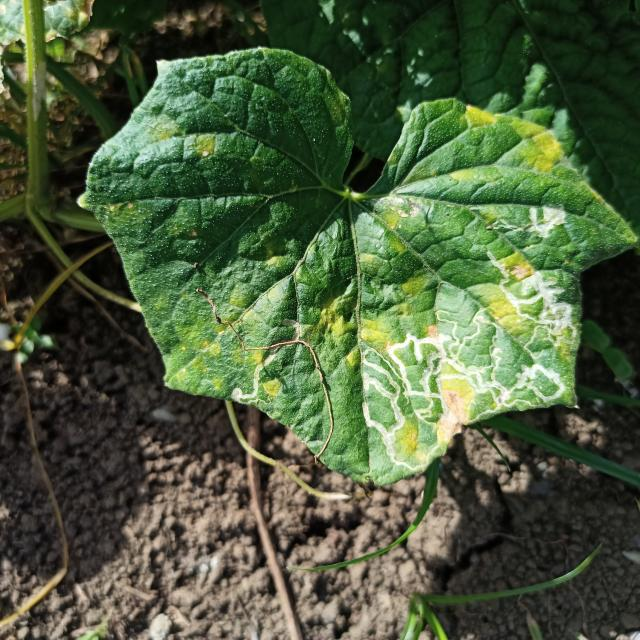disease_cucumber: (320, 185, 577, 462), (193, 252, 323, 399), (442, 100, 566, 188), (154, 119, 220, 161)
